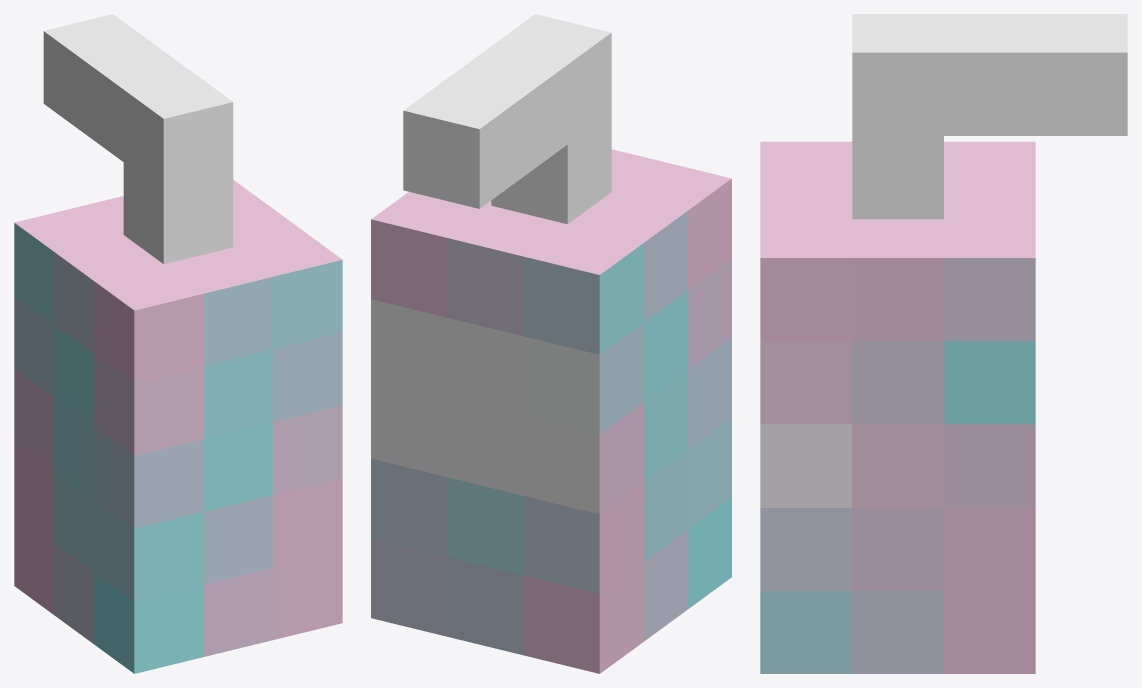
Rendered from HandSoap.fbx.
The picture shows the model from 3 angles, left to right: view 1: azimuth 30°, elevation 25°; view 2: azimuth 150°, elevation 25°; view 3: azimuth 270°, elevation 25°; orthographic projection. The views are drawn at different scales.
Parts seen in each view (by area): view 1: cube, cube_1, cube_2; view 2: cube, cube_1, cube_2; view 3: cube, cube_1, cube_2.
Part boxes in pixels (left/top/right/bottom): cube: left=14, top=180, right=342, bottom=673; cube_1: left=43, top=14, right=233, bottom=191; cube_2: left=123, top=162, right=233, bottom=264; cube: left=371, top=149, right=731, bottom=673; cube_1: left=403, top=14, right=611, bottom=208; cube_2: left=491, top=112, right=611, bottom=224; cube: left=760, top=141, right=1035, bottom=673; cube_1: left=852, top=14, right=1127, bottom=135; cube_2: left=852, top=136, right=943, bottom=219.
Bounding box in the file's own units: 18.75 × 43.75 × 25.
Materials: 1 (1 with a texture image).
